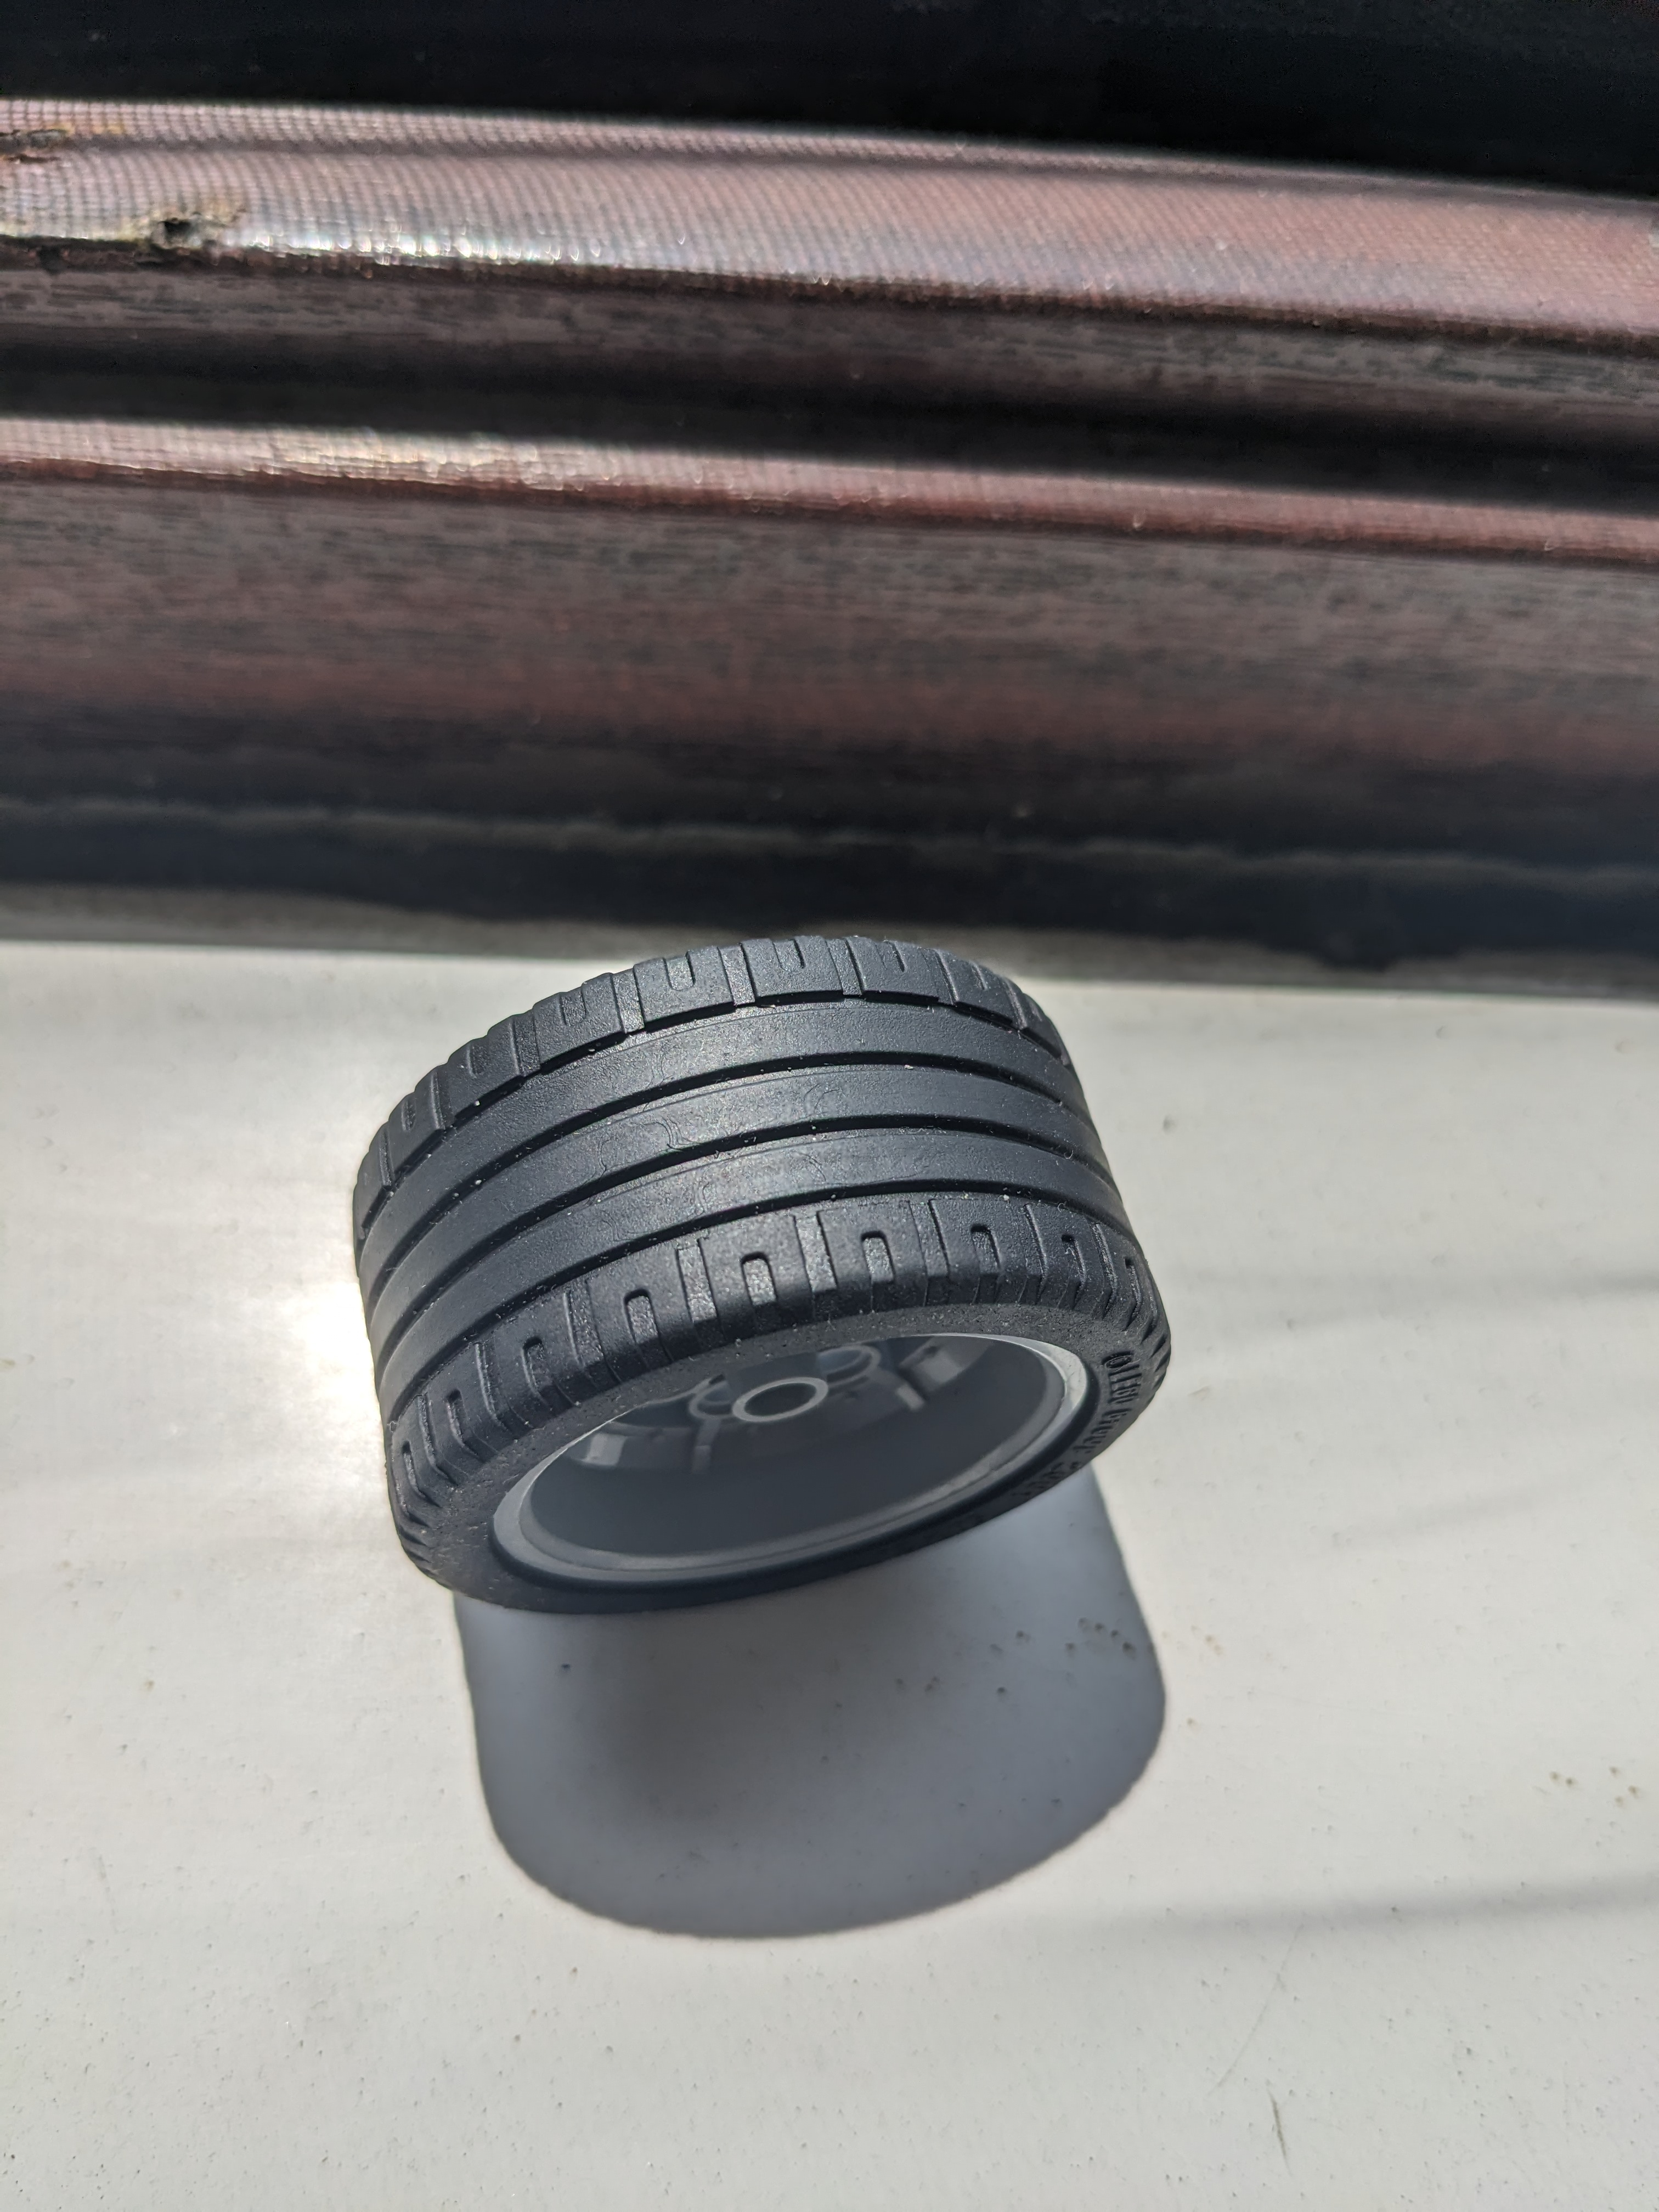Rad: (324, 913, 1187, 1648)
